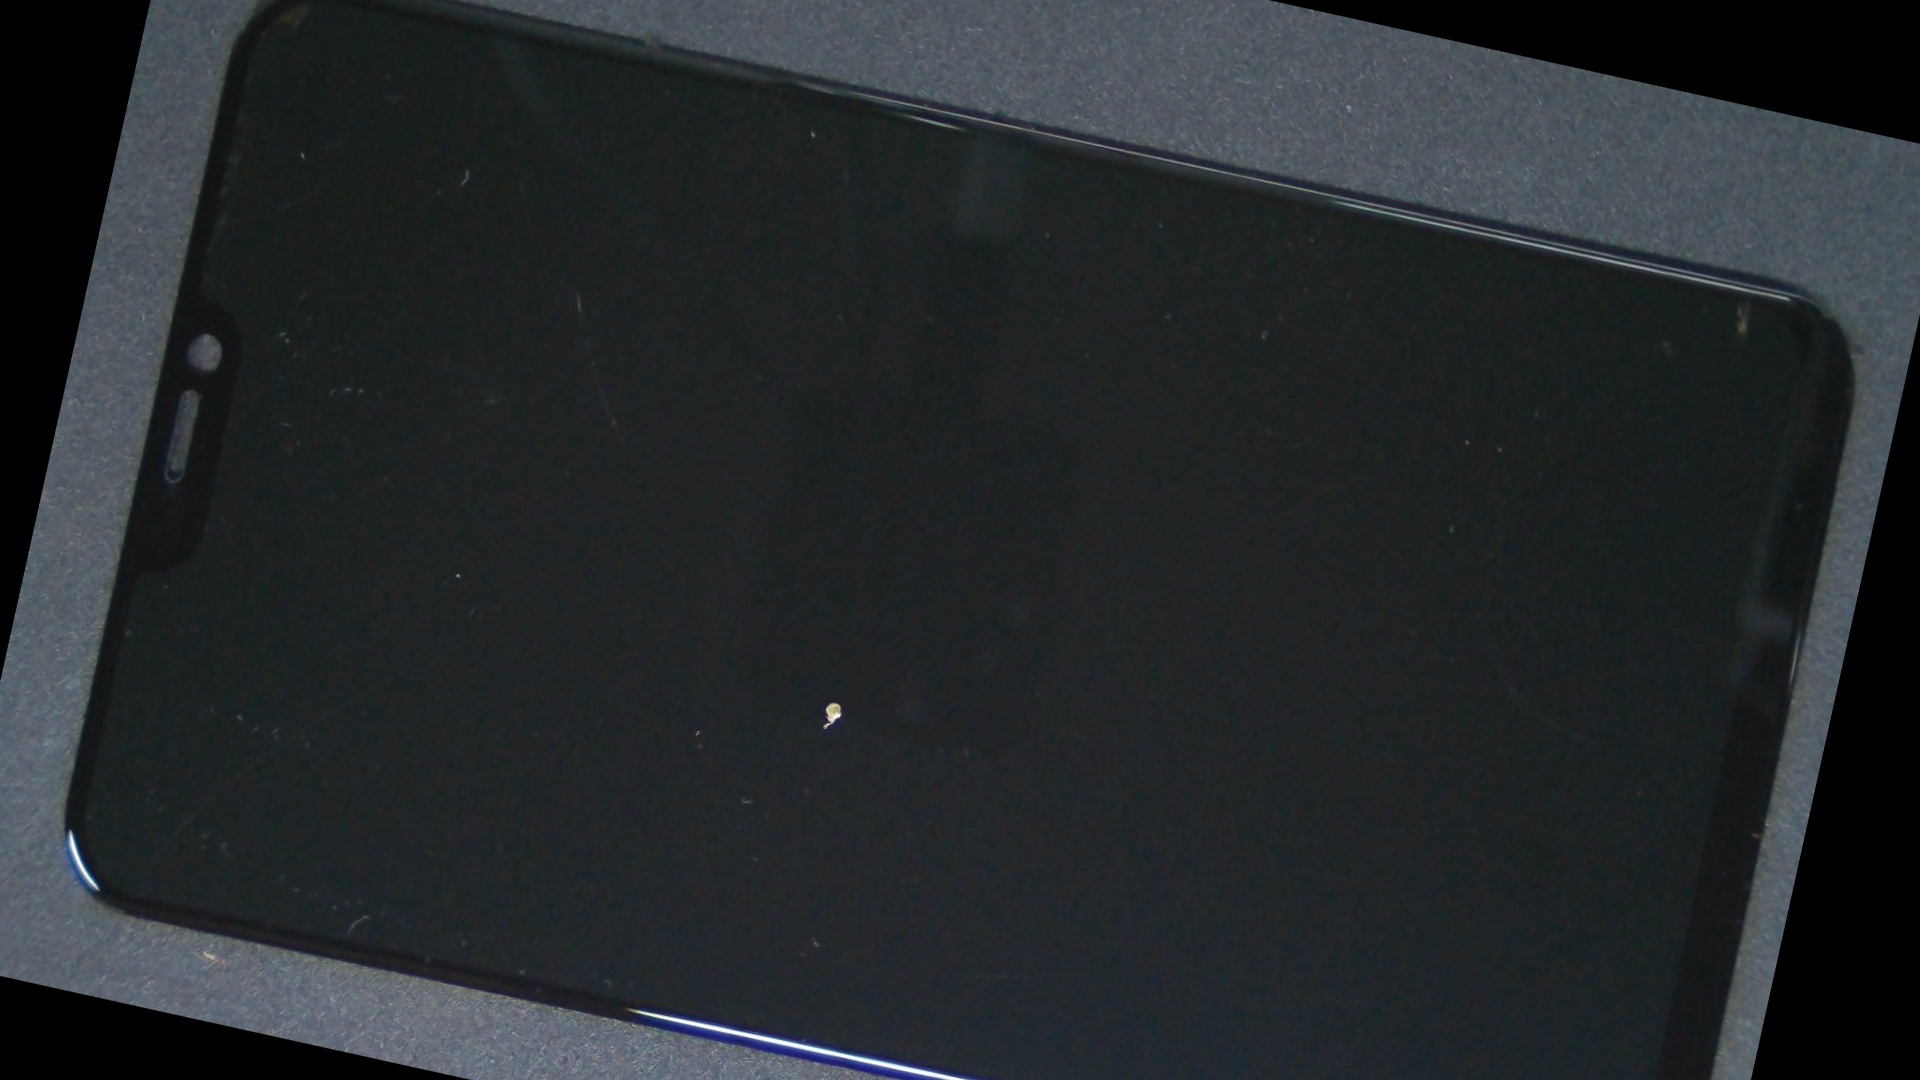oil: (349, 232, 1312, 1080)
